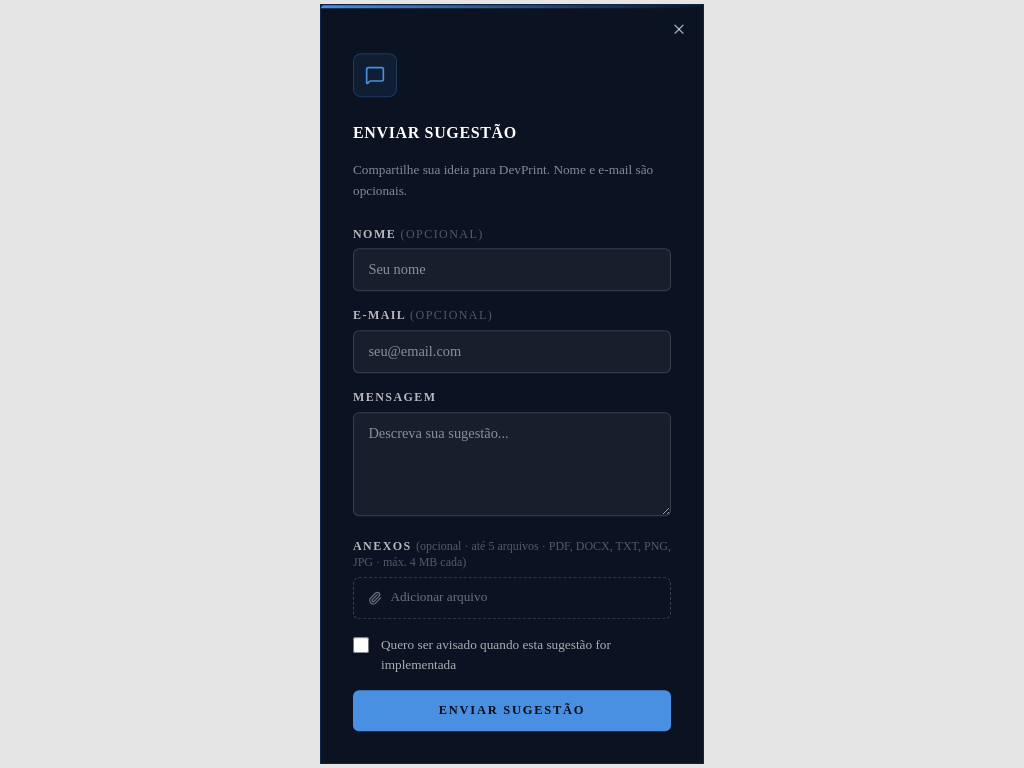
it: FeedbackModal › validação client-side › exibe erro quando mensagem está vazia ao submeter
Step 1. Click the button "Enviar Sugestão" → click(512, 711), box [353, 691, 671, 731]
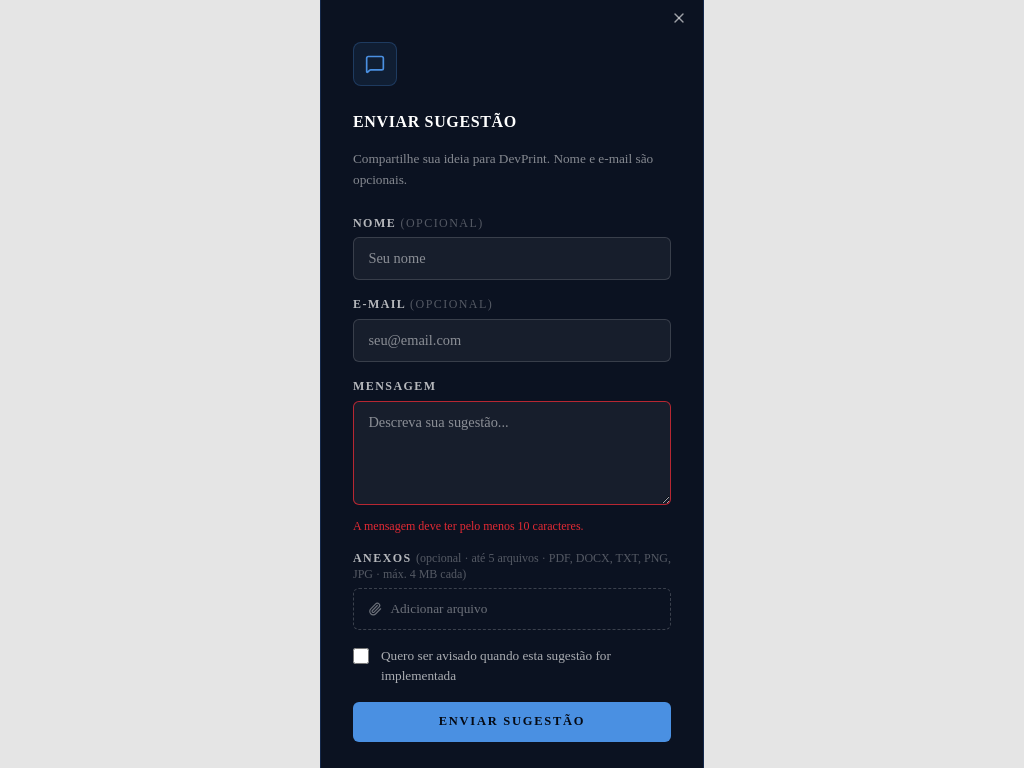
Result: the text "A mensagem deve ter pelo menos 10 caracteres." is shown at [353, 519, 584, 533]
